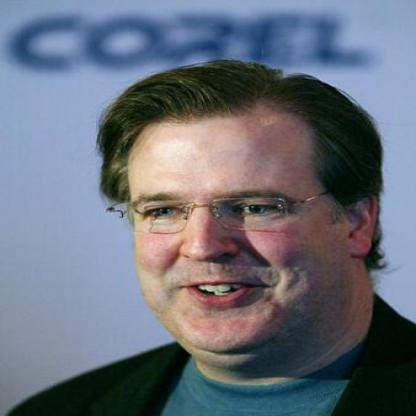face: (119, 74, 353, 357)
